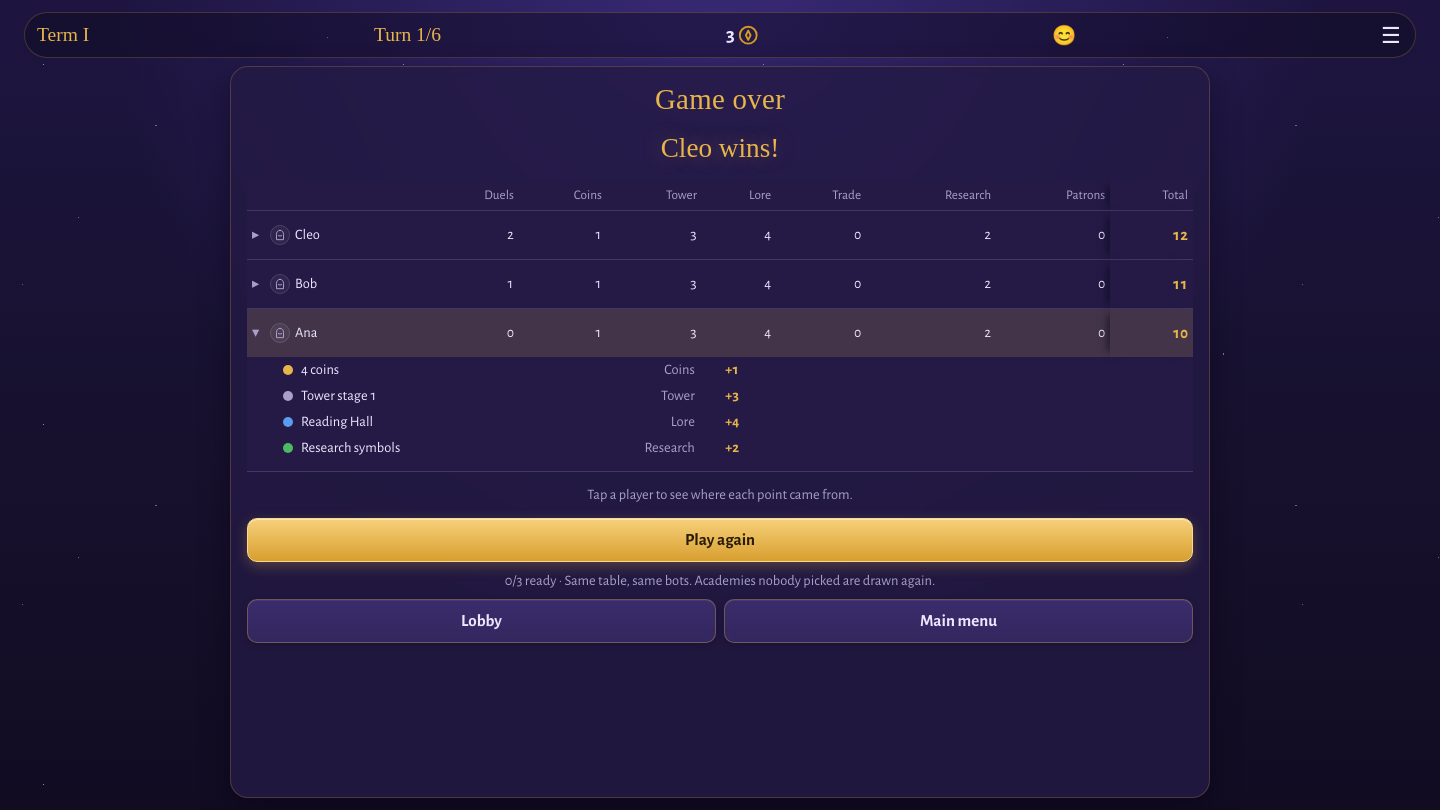
Test: Game end › shows my per-source breakdown and lets me open another player
Expected: the text "Reading Hall" is shown, [301,414,373,429]
Expected: the text "Tower stage 1" is shown, [301,388,377,403]
Click the button with aria-label "Show where Cleo" at [286, 235], box [252,217,320,253]
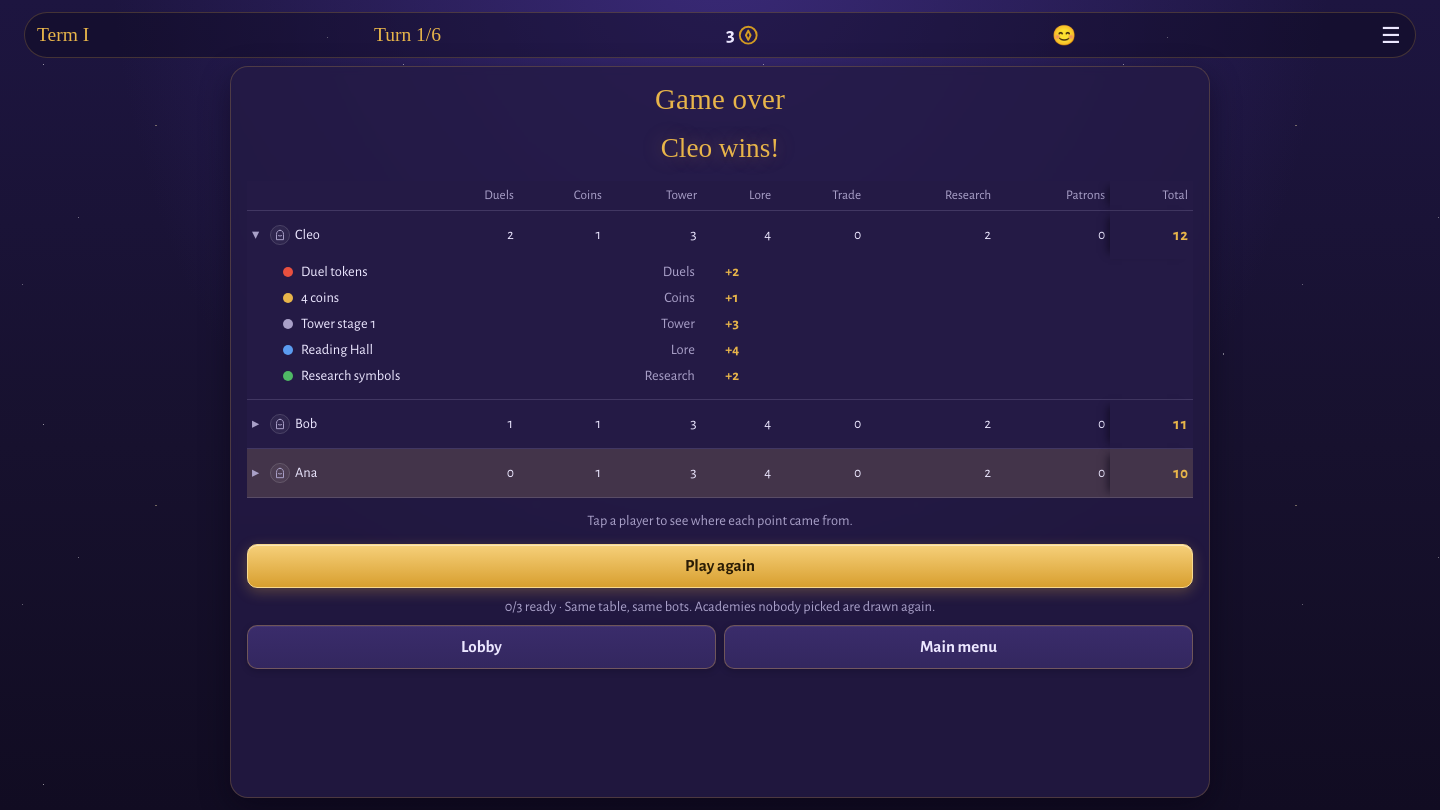
Now the button with aria-label "Show where Ana" is collapsed, box [252,455,317,491]
Now the text "Duel tokens" is shown, box [301,264,368,279]
Now the list item "Duel tokens" shows "+2", box [725,264,739,279]
Click the button with aria-label "Show where Cleo" at [286, 235], box [252,217,320,253]
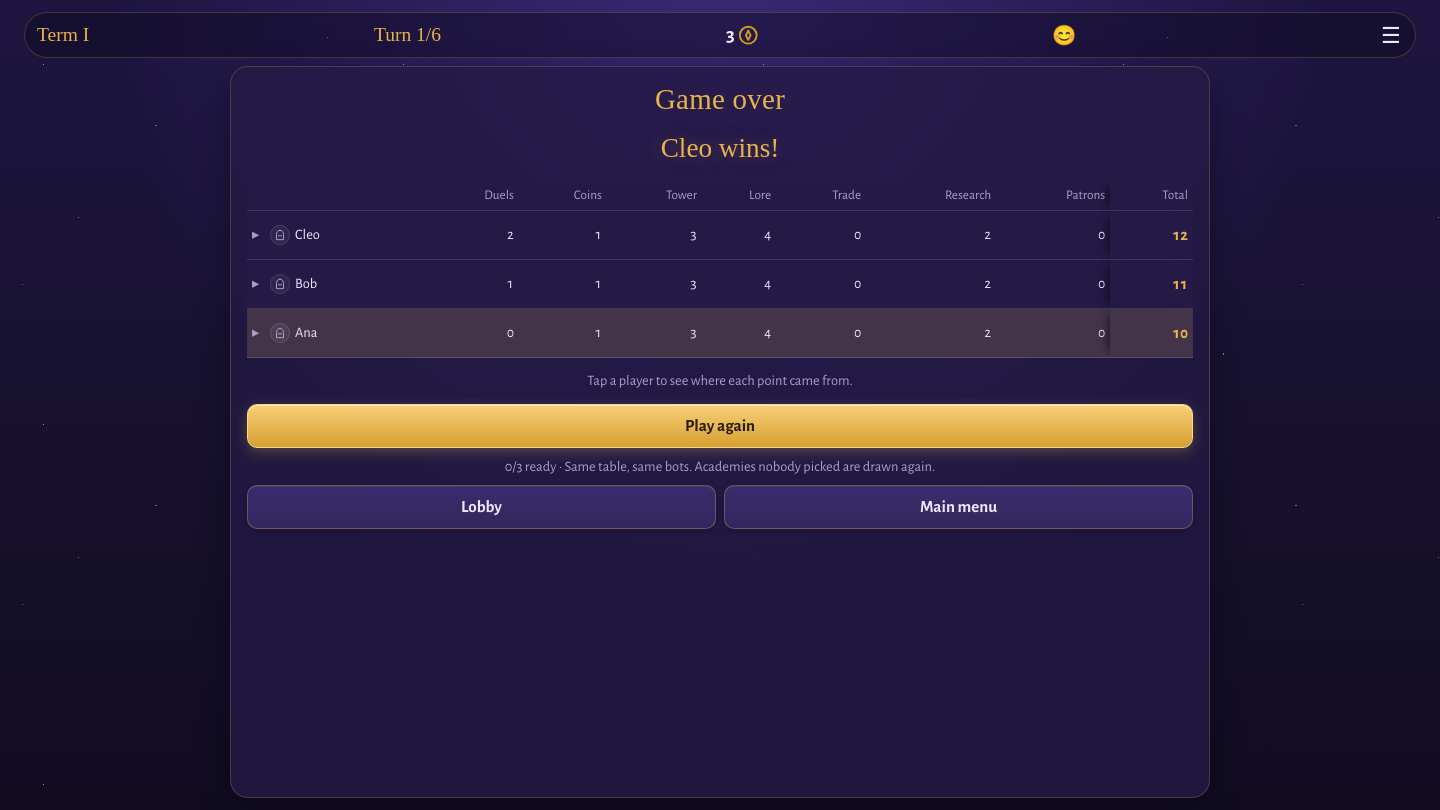
Now the text "Duel tokens" is gone
